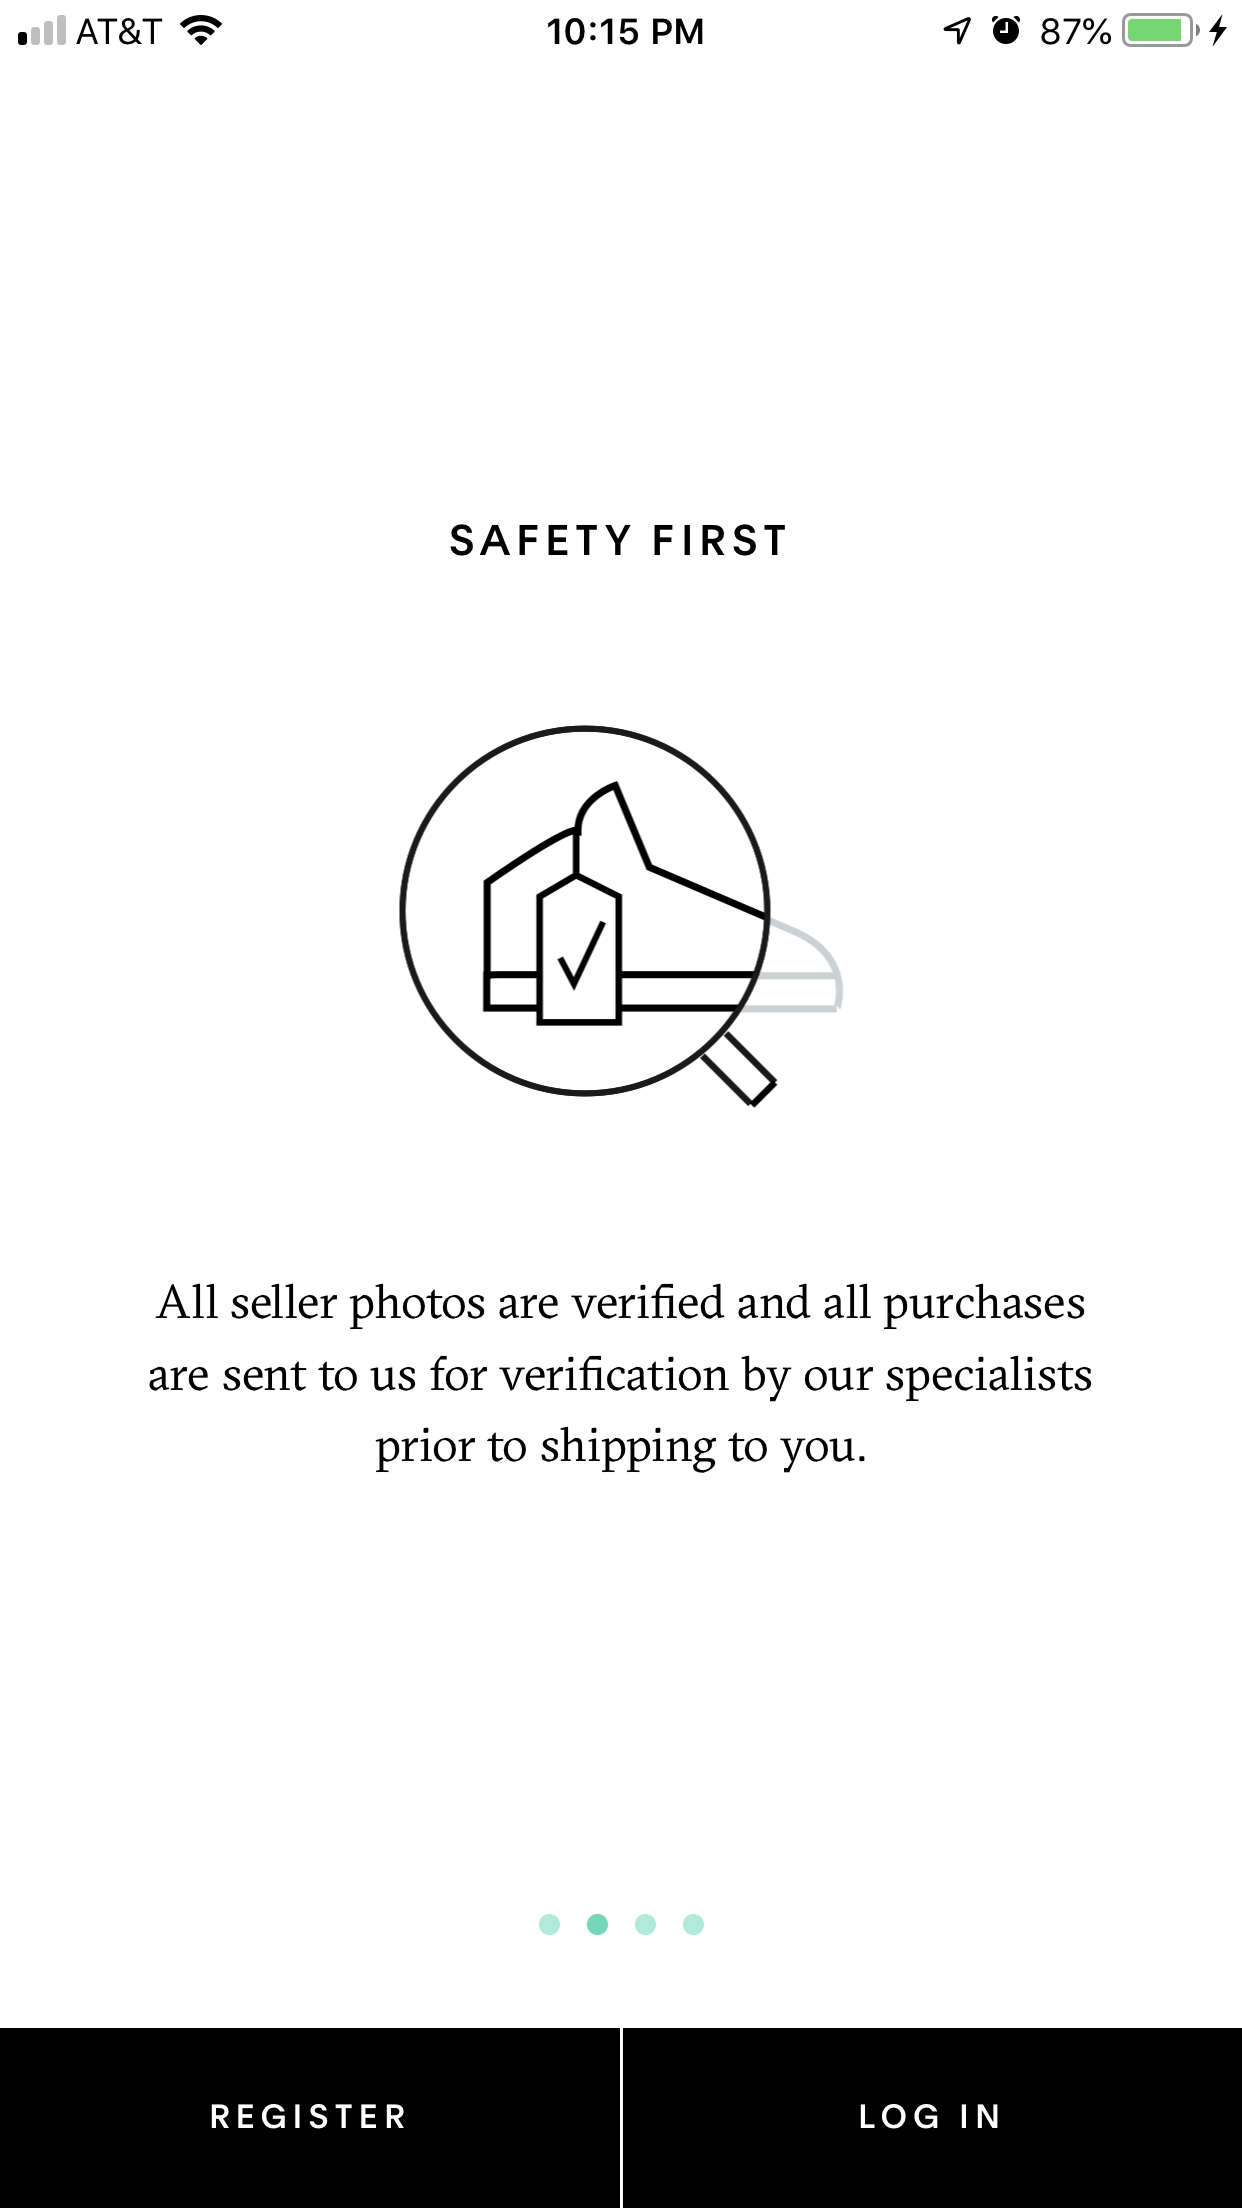Image: (399, 725, 845, 1109)
PageIndicator: (538, 1912, 705, 1937)
Text: (149, 1281, 1092, 1473), (450, 525, 786, 557)
TextButton: (2, 2028, 622, 2208), (623, 2028, 1242, 2208)
UpperTaskBar: (2, 2, 1242, 49)
